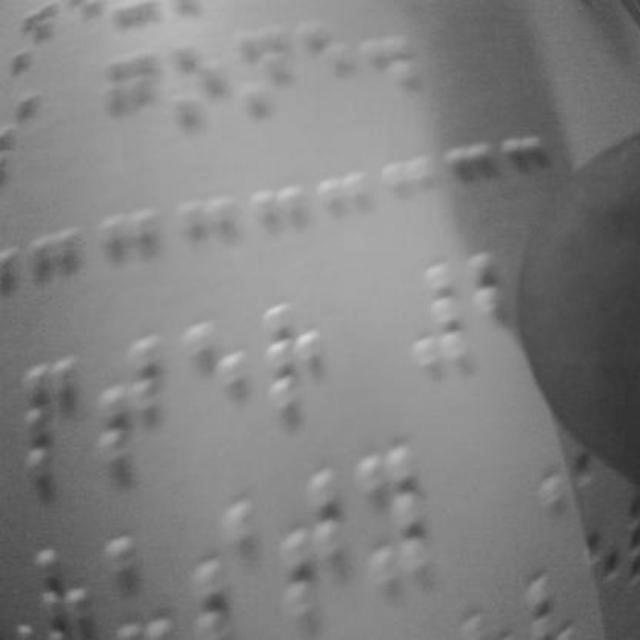braiile: (280, 452, 354, 622), (186, 472, 258, 640), (358, 442, 436, 586), (15, 350, 91, 490), (98, 334, 172, 476), (183, 310, 250, 452), (262, 292, 331, 421), (104, 44, 160, 158), (170, 32, 226, 144), (234, 22, 292, 128), (298, 15, 352, 116)
